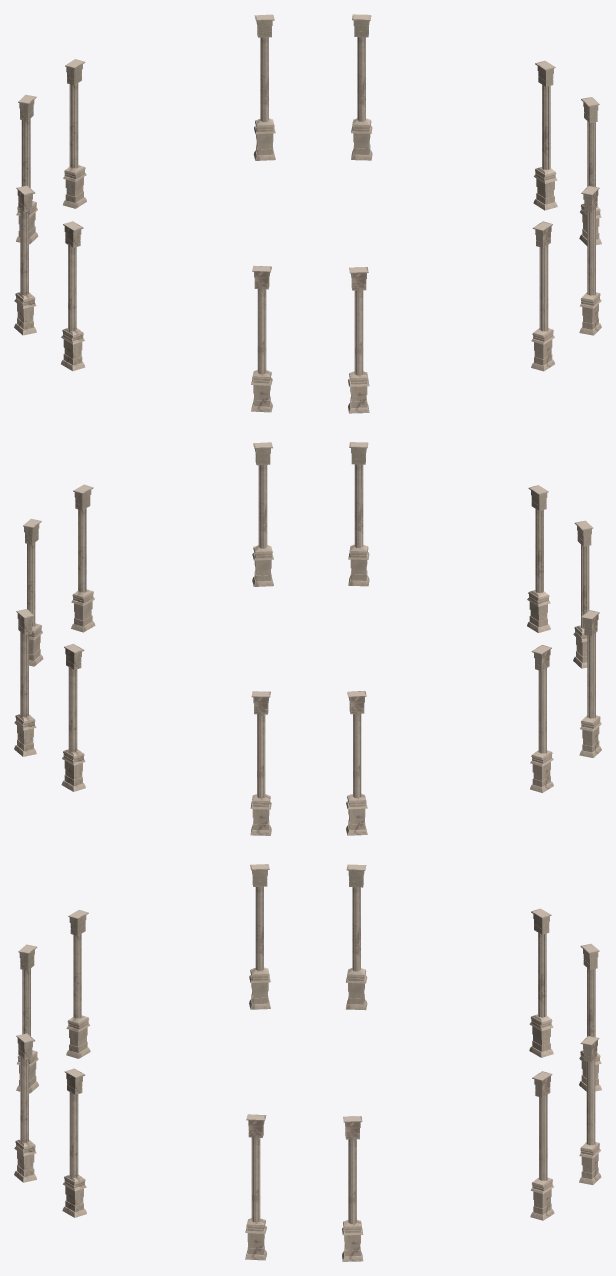
The model's file is atrium_Pillars.fbx.
3 views of the same model, one above another, from view 1: azimuth 30°, elevation 25°; view 2: azimuth 150°, elevation 25°; view 3: azimuth 270°, elevation 25° (orthographic).
Parts seen in each view (by area): view 1: uvPILLAR.007, uvPILLAR.001, uvPILLAR.004, uvPILLAR.005, uvPILLAR.002, uvPILLAR.008, uvPILLAR.011, uvPILLAR.010, uvPILLAR.003, uvPILLAR.006, uvPILLAR, uvPILLAR.009; view 2: uvPILLAR.010, uvPILLAR.006, uvPILLAR.007, uvPILLAR.009, uvPILLAR.004, uvPILLAR.003, uvPILLAR.001, uvPILLAR, uvPILLAR.002, uvPILLAR.011, uvPILLAR.005, uvPILLAR.008; view 3: uvPILLAR.006, uvPILLAR.009, uvPILLAR.010, uvPILLAR.005, uvPILLAR.011, uvPILLAR, uvPILLAR.002, uvPILLAR.008, uvPILLAR.003, uvPILLAR.007, uvPILLAR.001, uvPILLAR.004.
Part boxes in pixels (<box>): uvPILLAR.007: <box>531,221,554,371</box>; uvPILLAR.001: <box>63,59,86,208</box>; uvPILLAR.004: <box>348,267,369,413</box>; uvPILLAR.005: <box>251,265,272,412</box>; uvPILLAR.002: <box>61,221,85,371</box>; uvPILLAR.008: <box>533,60,557,210</box>; uvPILLAR.011: <box>351,14,372,160</box>; uvPILLAR.010: <box>253,14,275,160</box>; uvPILLAR.003: <box>14,185,36,335</box>; uvPILLAR.006: <box>579,185,601,335</box>; uvPILLAR: <box>16,94,38,244</box>; uvPILLAR.009: <box>579,97,601,245</box>; uvPILLAR.010: <box>61,643,85,791</box>; uvPILLAR.006: <box>252,442,273,586</box>; uvPILLAR.007: <box>348,442,369,586</box>; uvPILLAR.009: <box>71,484,95,632</box>; uvPILLAR.004: <box>527,485,550,632</box>; uvPILLAR.003: <box>530,645,553,792</box>; uvPILLAR.001: <box>250,691,271,835</box>; uvPILLAR: <box>346,691,367,835</box>; uvPILLAR.002: <box>579,610,601,757</box>; uvPILLAR.011: <box>14,609,36,756</box>; uvPILLAR.005: <box>573,520,593,668</box>; uvPILLAR.008: <box>23,518,43,666</box>; uvPILLAR.006: <box>62,1068,86,1217</box>; uvPILLAR.009: <box>245,1114,266,1260</box>; uvPILLAR.010: <box>579,1036,601,1184</box>; uvPILLAR.005: <box>66,909,90,1058</box>; uvPILLAR.011: <box>530,1071,554,1220</box>; uvPILLAR: <box>529,908,553,1057</box>; uvPILLAR.002: <box>249,864,270,1009</box>; uvPILLAR.008: <box>342,1116,363,1261</box>; uvPILLAR.003: <box>345,864,367,1010</box>; uvPILLAR.007: <box>14,1033,36,1182</box>; uvPILLAR.001: <box>579,943,601,1091</box>; uvPILLAR.004: <box>16,944,38,1093</box>.
Size of the model in its own units: 3953 by 990 by 3786.
1 material, 1 textured.
